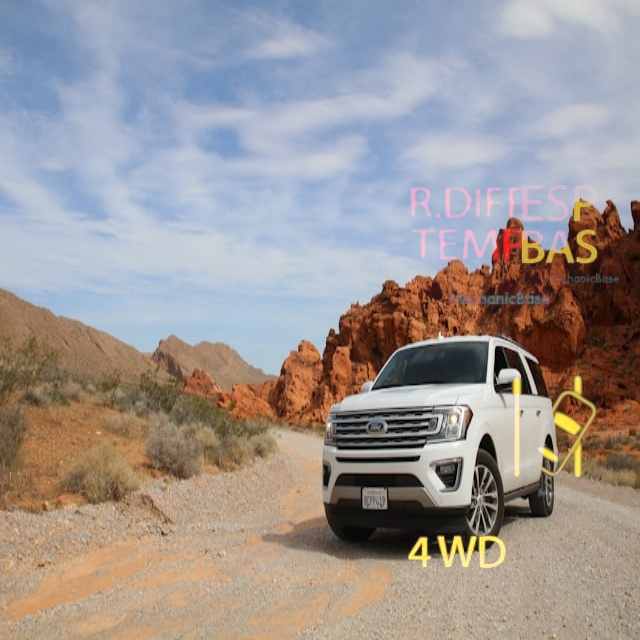symbol: (381, 138, 556, 313), (479, 355, 629, 505), (496, 161, 624, 289), (395, 492, 518, 615)
